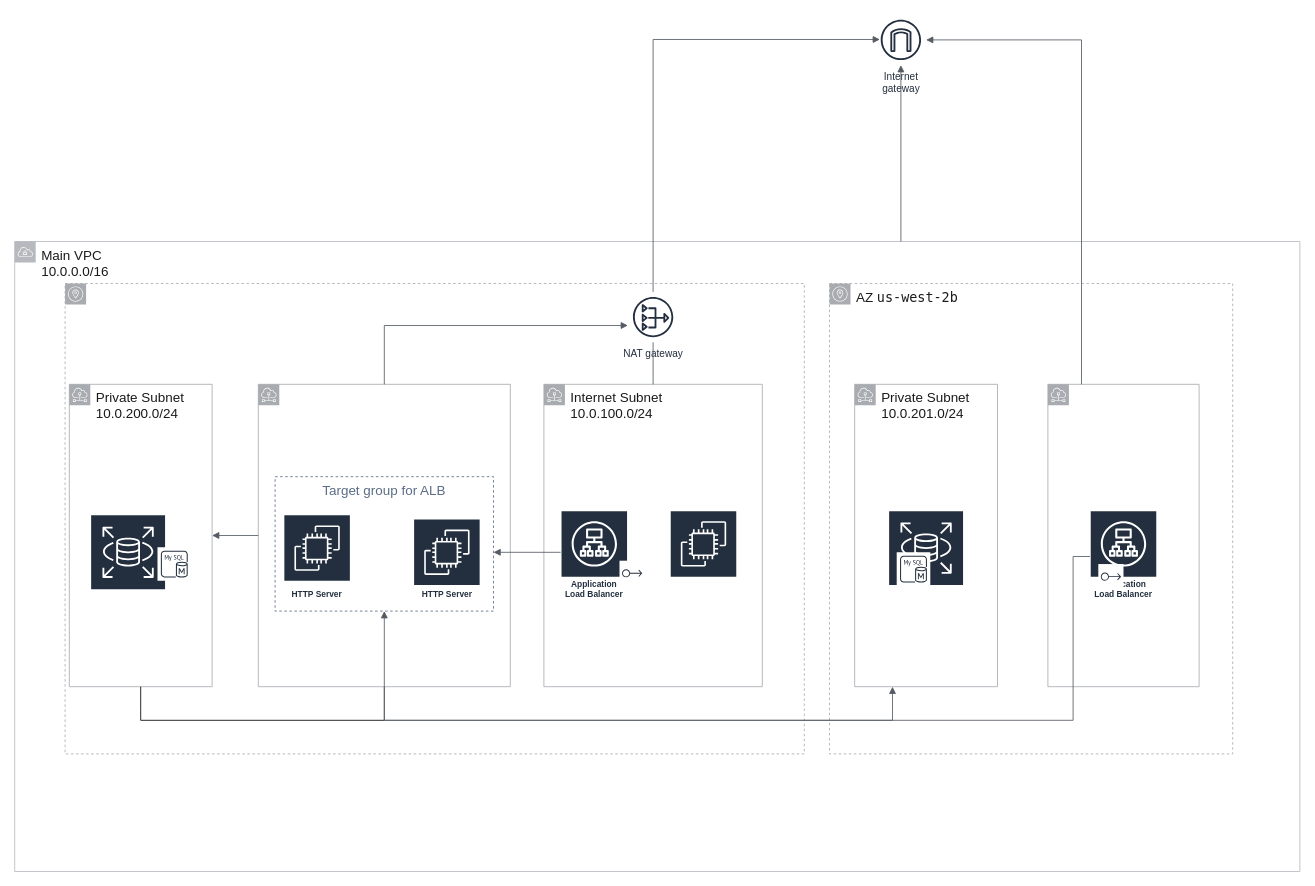
Some shapes in this 1315 by 886 pixel diagram are drawn without their labels. The shapes that lost their labels are listed below. From the top down, each one's box as (x1, y1, x2, y2) in pixels, then its label:
(257, 383, 510, 687): Public Subnet 10.0.1.0/24
(64, 283, 804, 754): AZ us- west -2a
(1047, 383, 1199, 687): Internet Subnet 10.0.101.0/24
(89, 514, 166, 620): RDS Main instance
(669, 509, 737, 594): Bastion SSH
(887, 509, 964, 607): RDS replica
